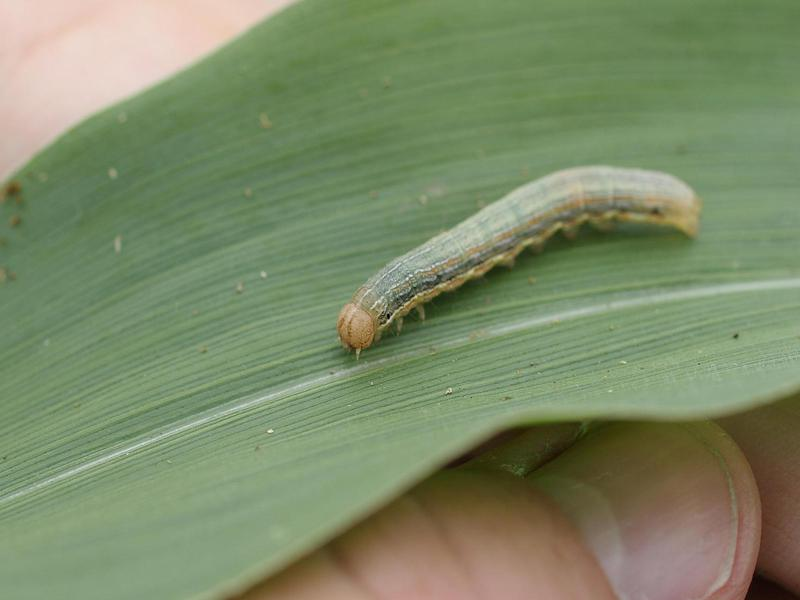Armyworms: (280, 154, 707, 360)
